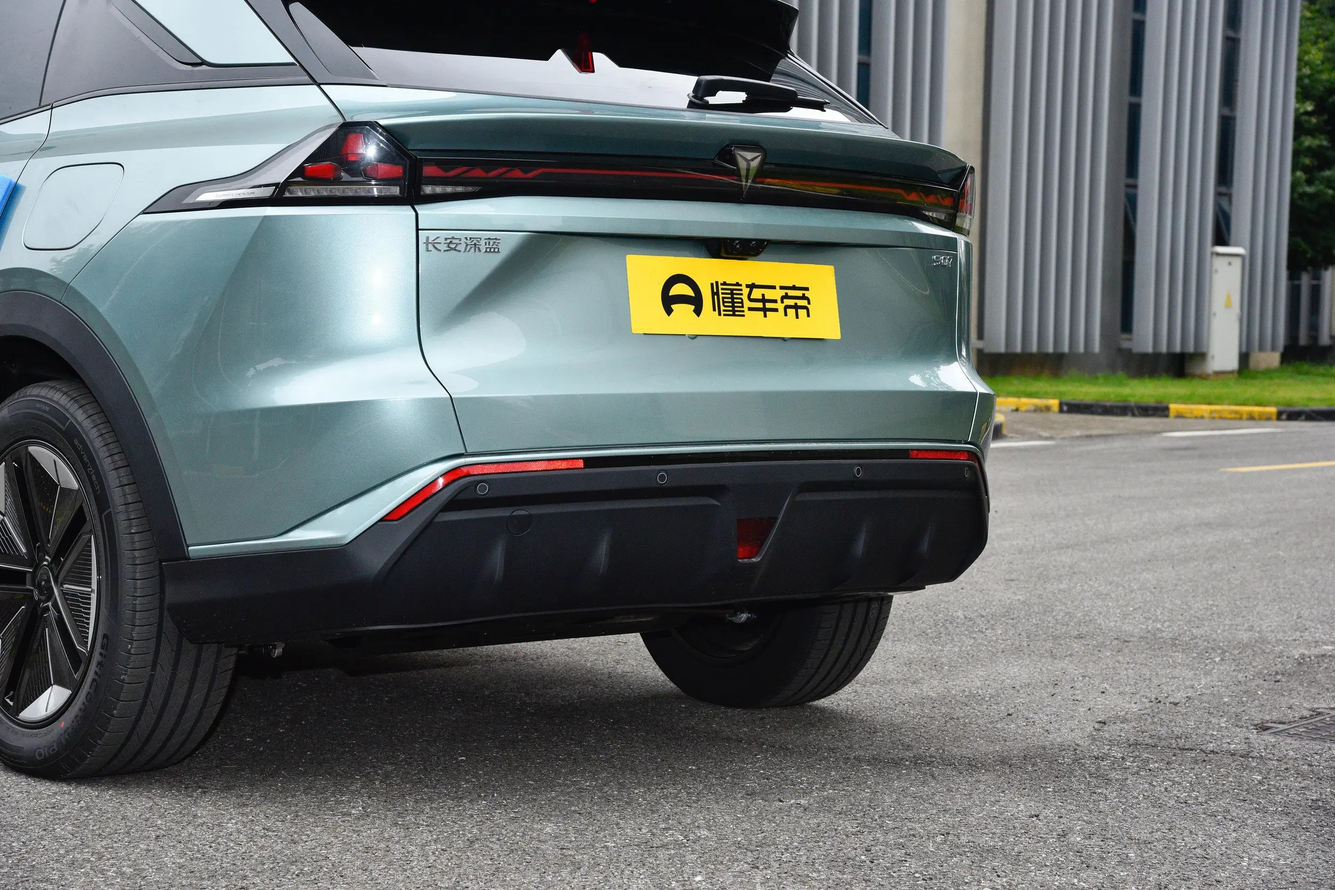Deepal: (737, 152, 761, 195)
